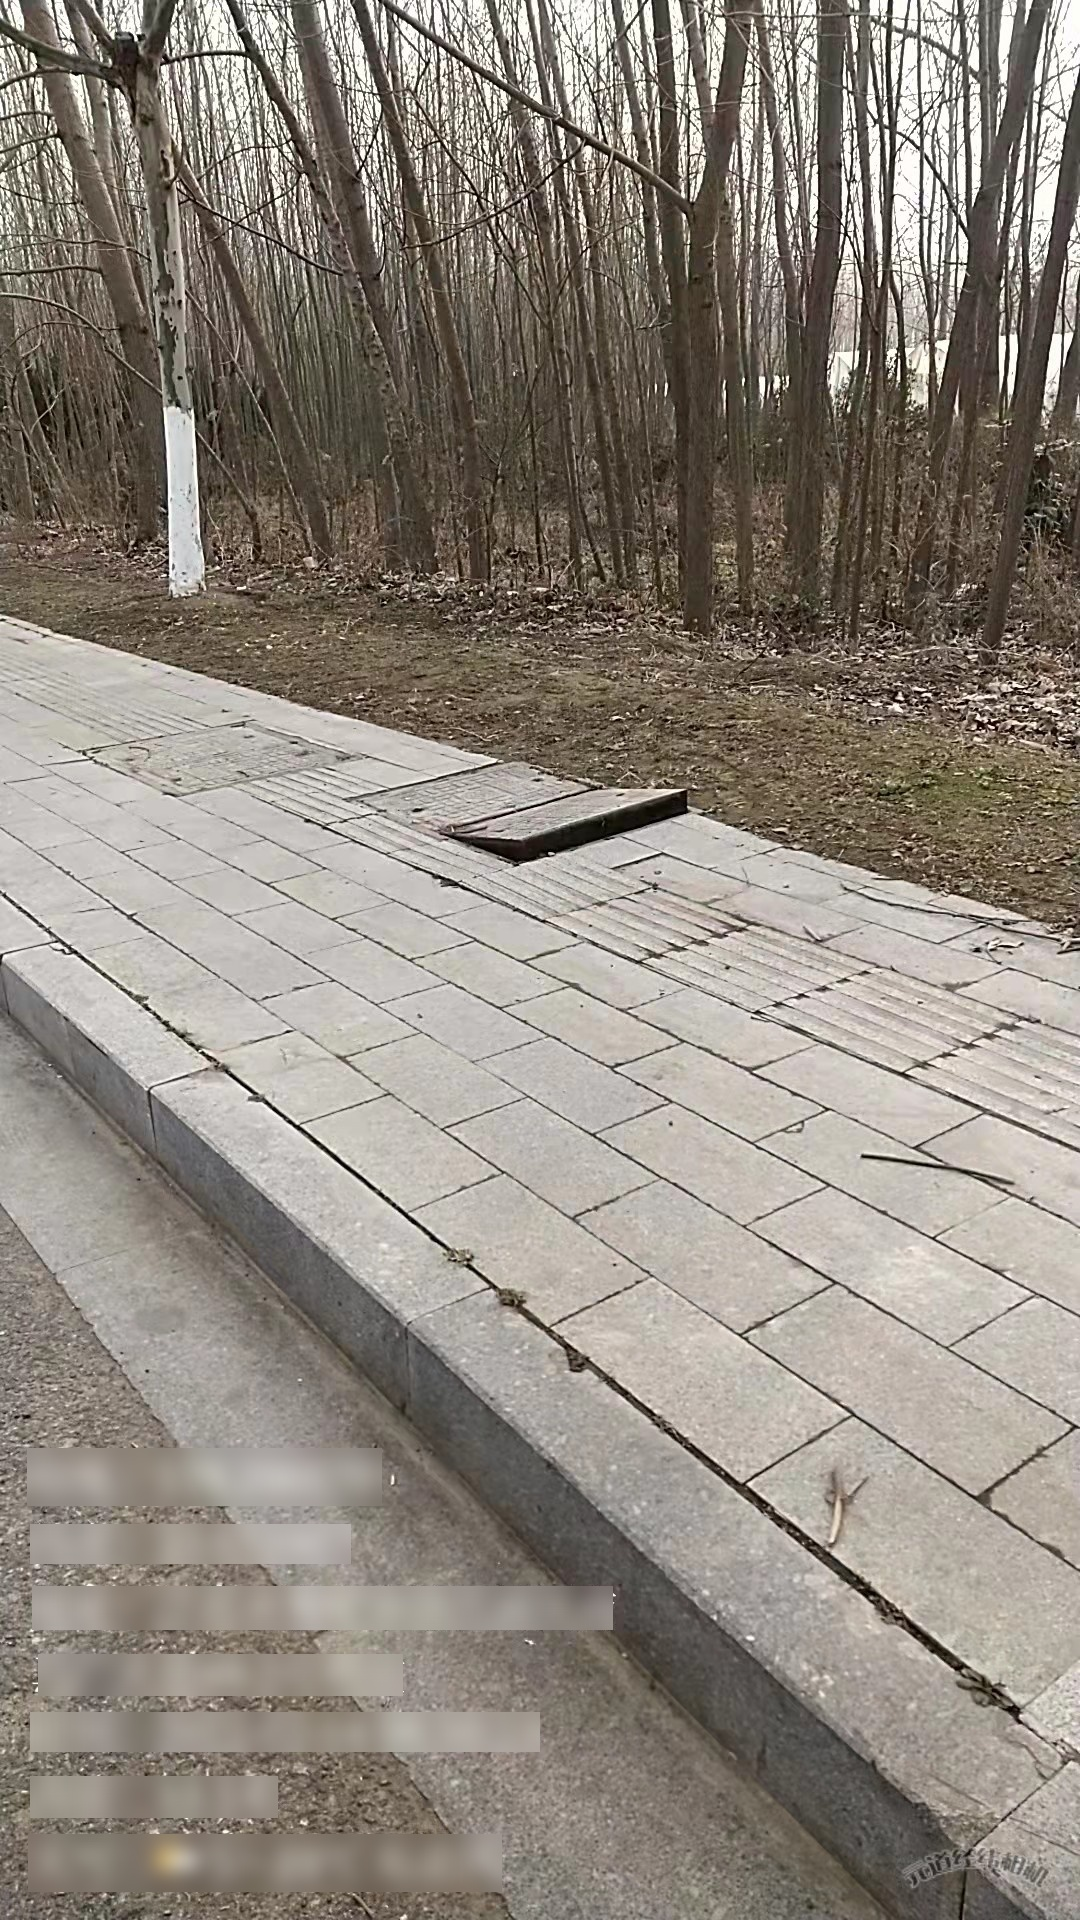well: (243, 737, 700, 868)
